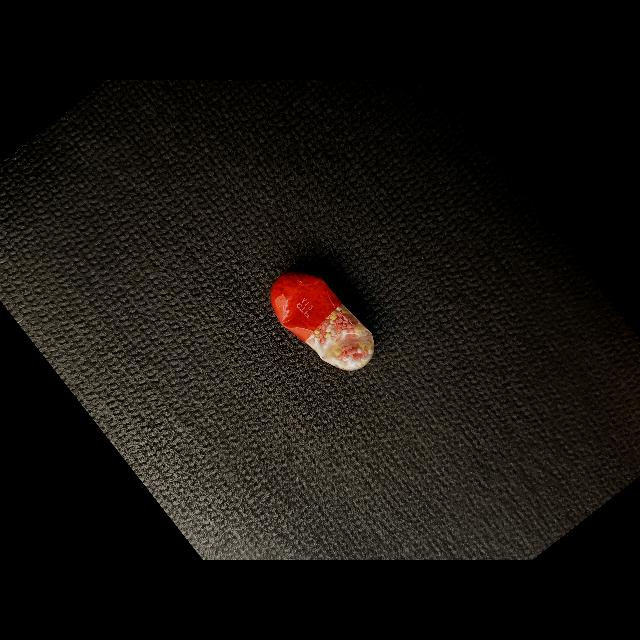Defective Capsule: (270, 272, 375, 371)
